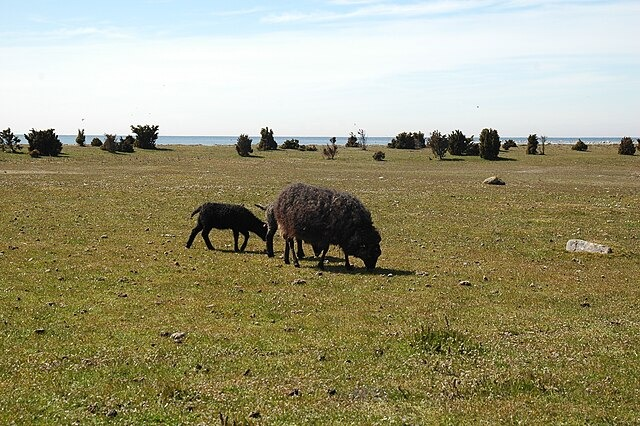grazing: (275, 181, 383, 273)
standing: (185, 202, 270, 256)
